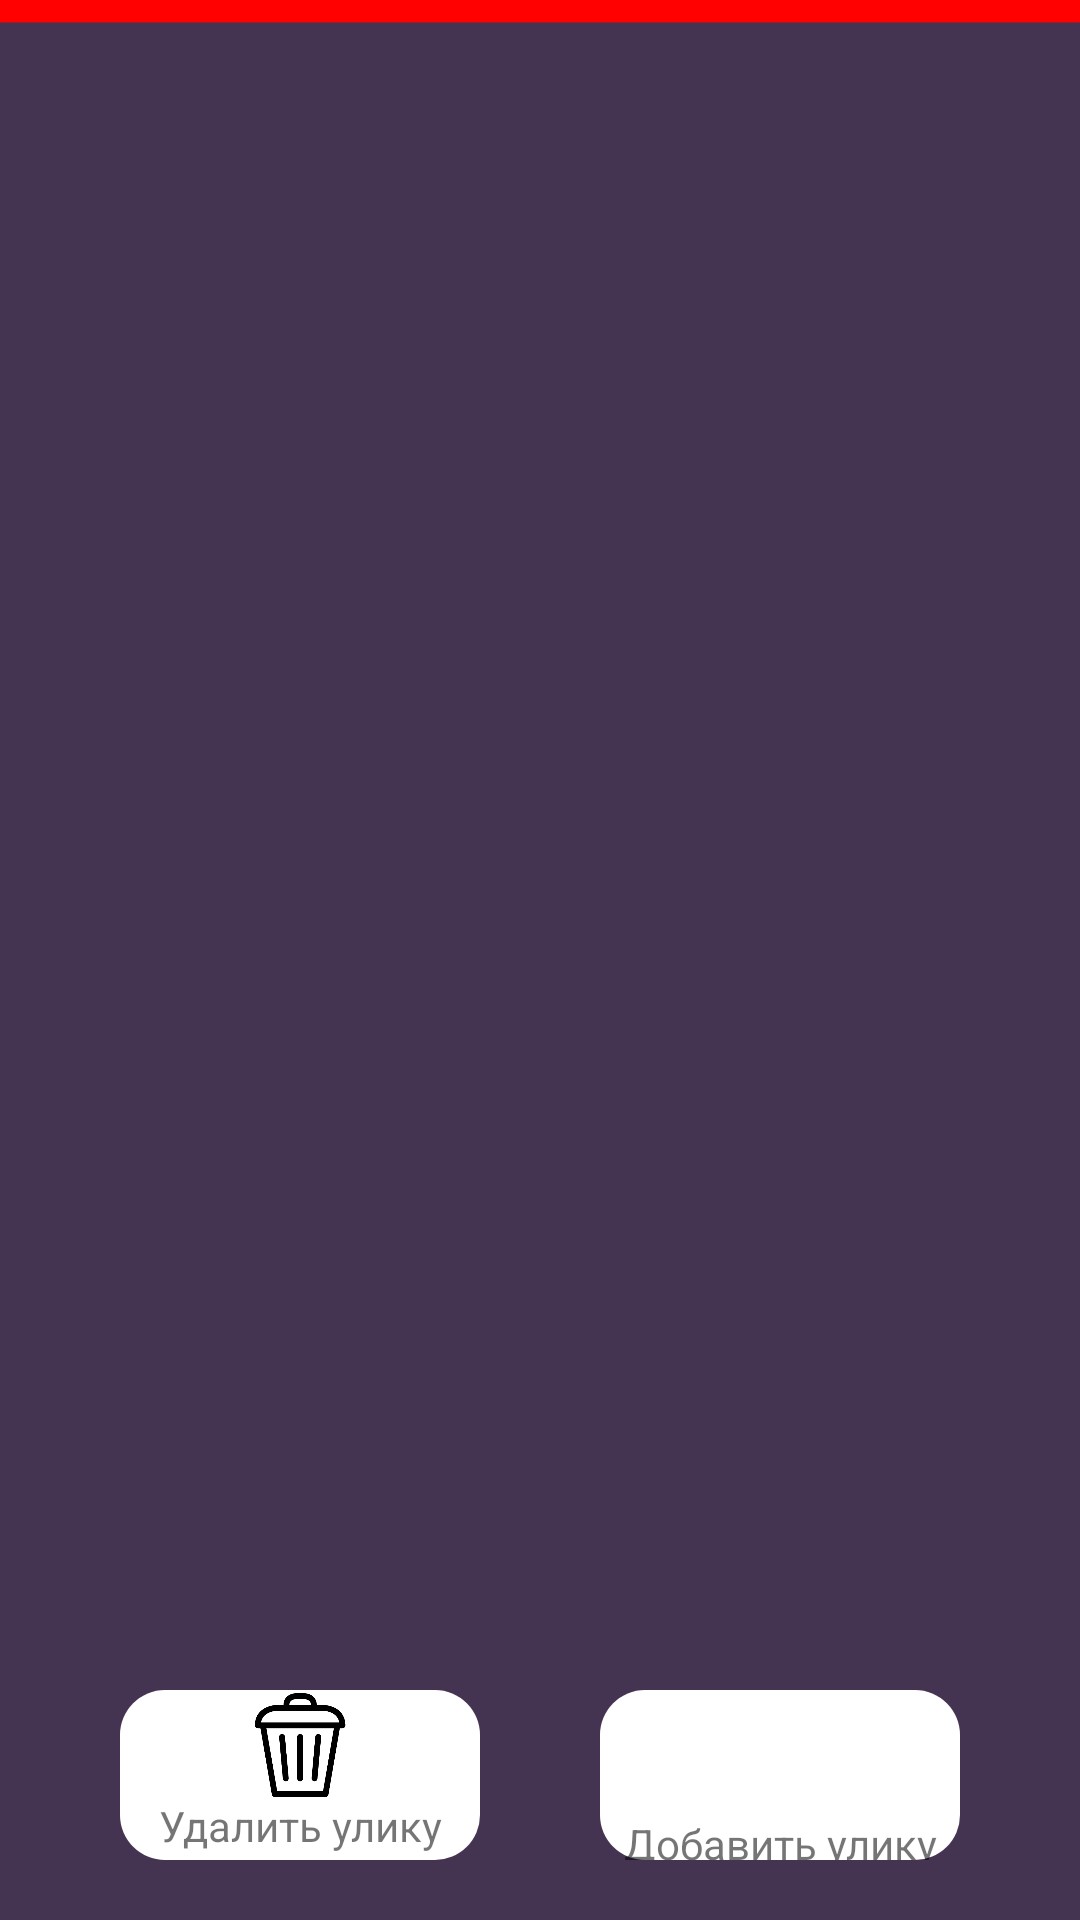

Icons on this 1080×1920 Android screen, each with the point to tap as point (x, y):
trashcan: point (300, 1745)
